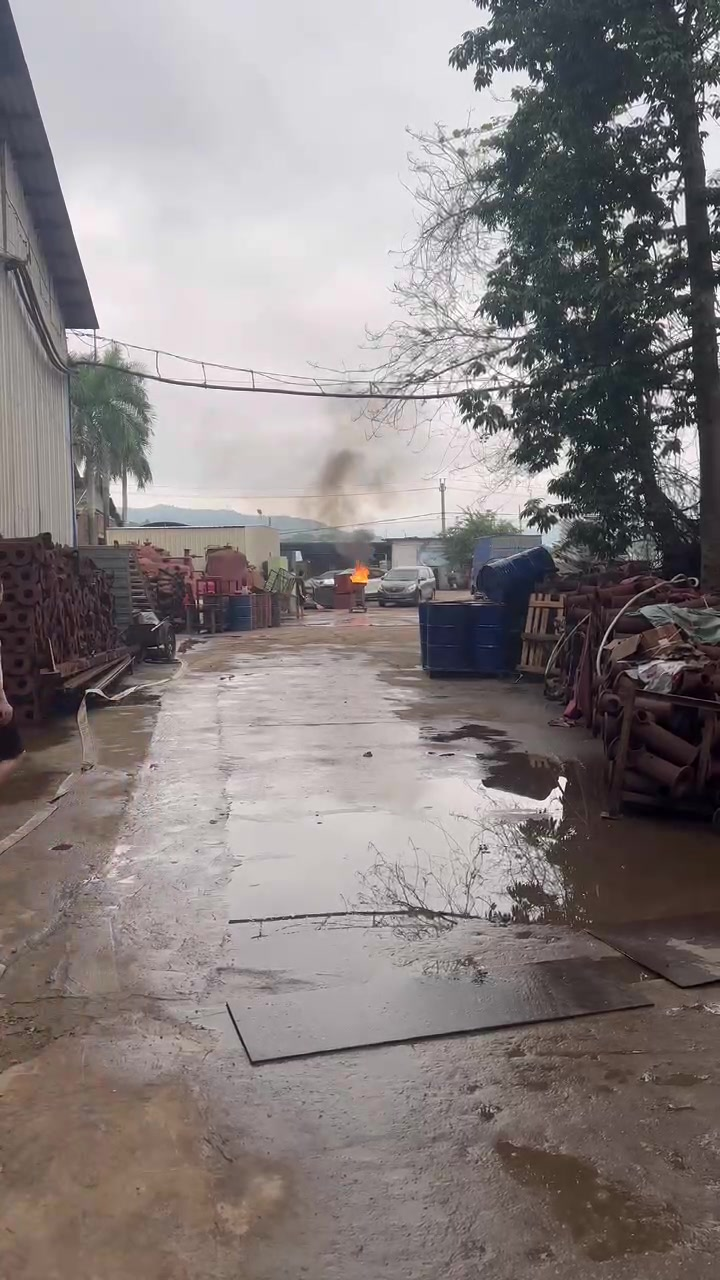fire: (349, 561, 369, 583)
